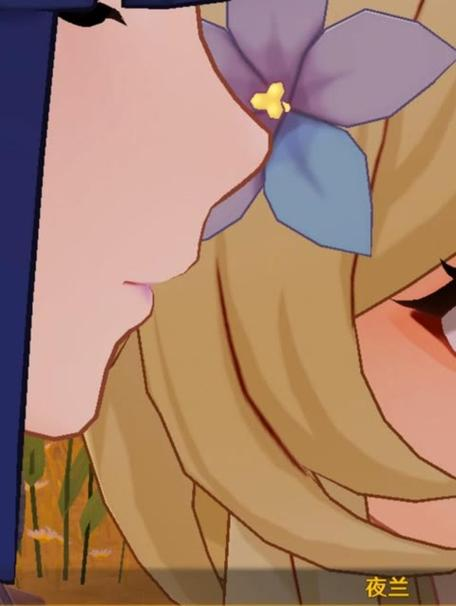夜兰: (1, 1, 269, 590)
